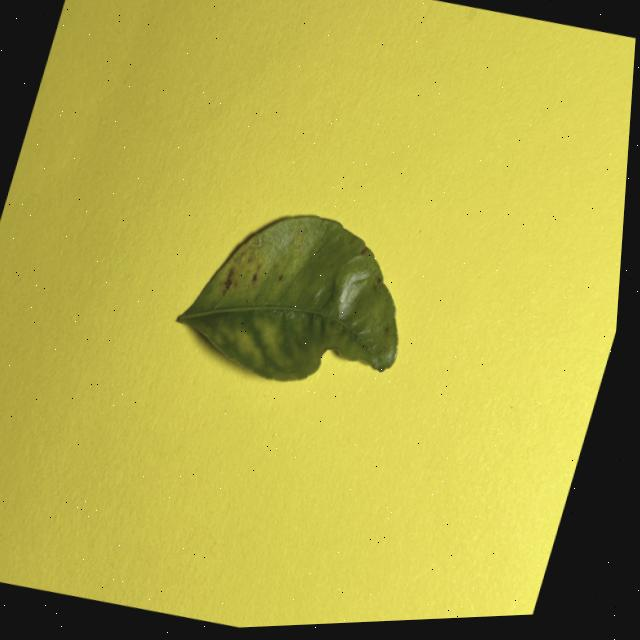greening: (178, 214, 398, 380)
